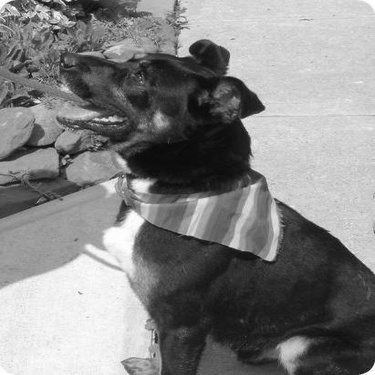dog: (48, 33, 368, 371)
